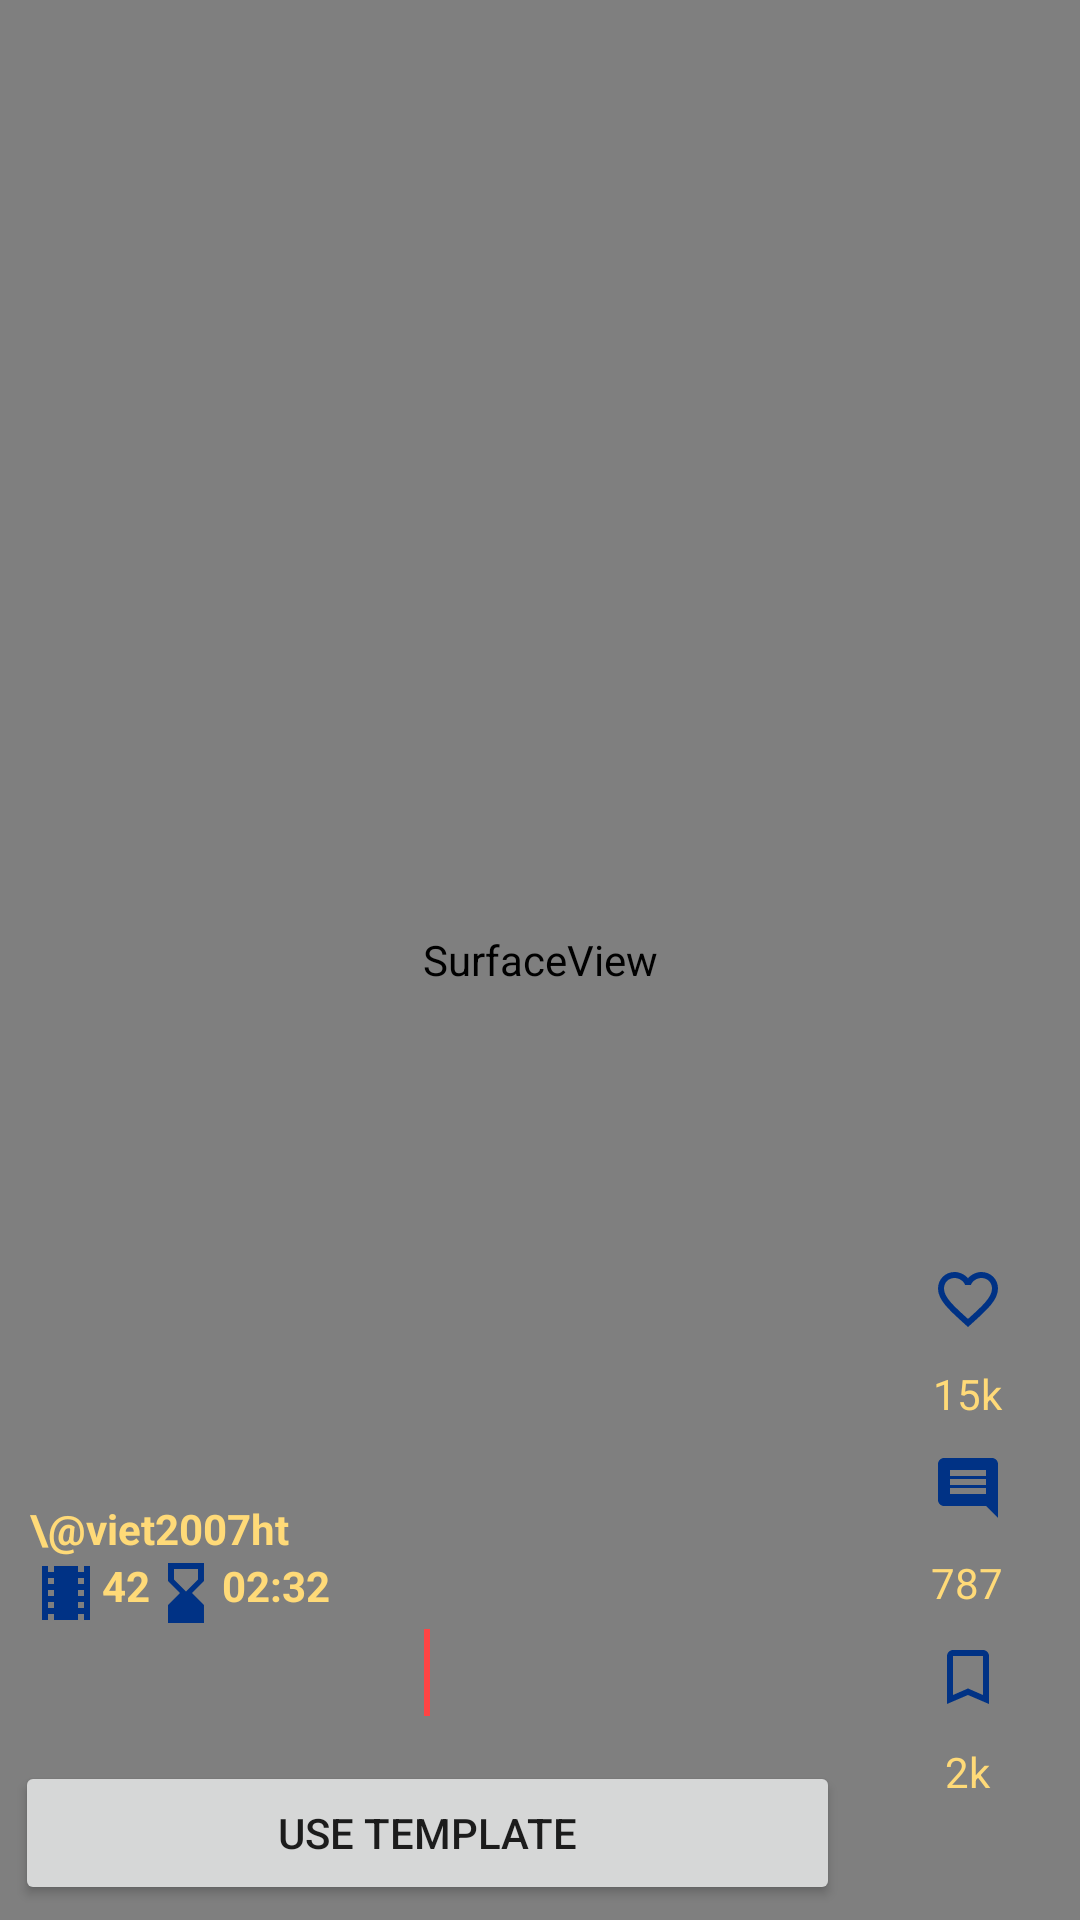

Locate icon controls on the screen. Image size 1080px×1920px, boxes as (x1, y1, x2, y2).
bookmark border: (947, 1650, 989, 1704)
comment: (938, 1458, 998, 1518)
favorite border: (938, 1272, 998, 1327)
hourglass bottom: (168, 1563, 204, 1623)
local movies: (42, 1566, 90, 1620)
